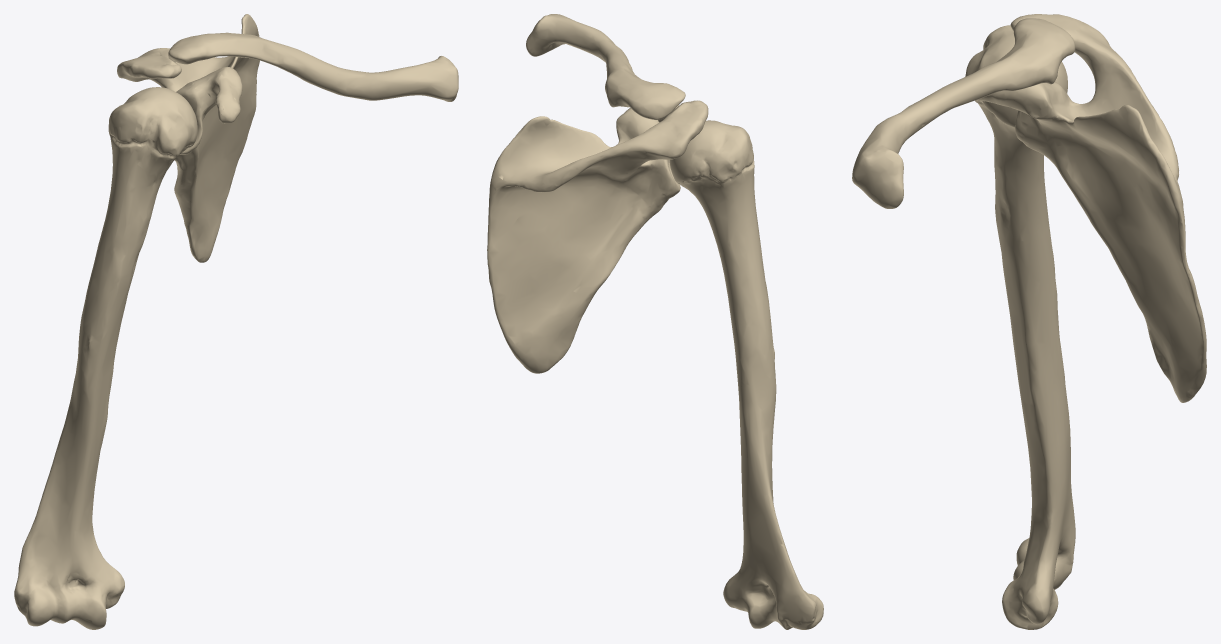
File: shoulder.glb
3 views of the same model, side by side, from view 1: azimuth 30°, elevation 25°; view 2: azimuth 150°, elevation 25°; view 3: azimuth 270°, elevation 25° (orthographic). The views are drawn at different scales.
Parts seen in each view (by area): view 1: FMA23130, FMA13395, FMA13322; view 2: FMA13395, FMA23130, FMA13322; view 3: FMA13395, FMA23130, FMA13322.
Part boxes in pixels (x1,y1,x2,y2): FMA23130: [14, 87, 197, 629]; FMA13395: [117, 14, 259, 262]; FMA13322: [168, 32, 458, 101]; FMA13395: [487, 100, 708, 373]; FMA23130: [669, 120, 823, 629]; FMA13322: [526, 14, 685, 119]; FMA13395: [975, 14, 1206, 402]; FMA23130: [965, 25, 1075, 629]; FMA13322: [852, 18, 1075, 208].
Bounding box in the file's own units: 2.32 × 3.3 × 1.59.
